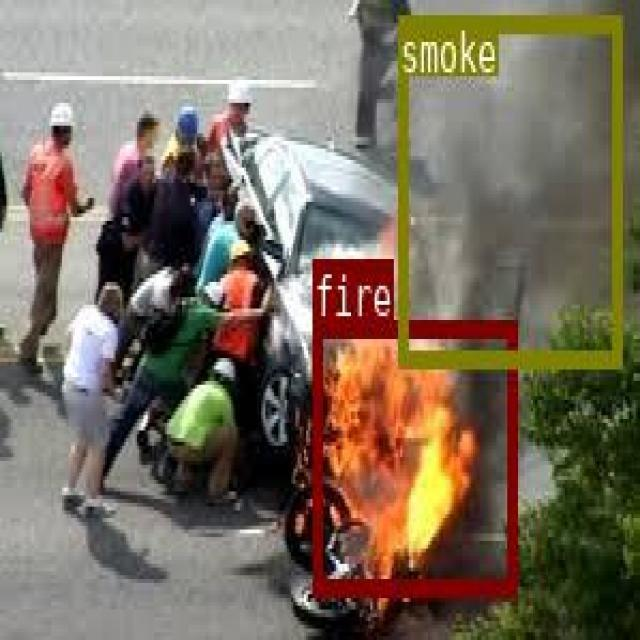fire: (311, 317, 516, 594)
smoke: (398, 12, 621, 365)
